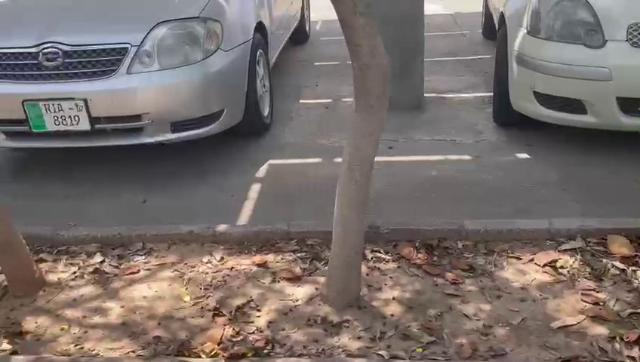plate: (22, 96, 98, 136)
